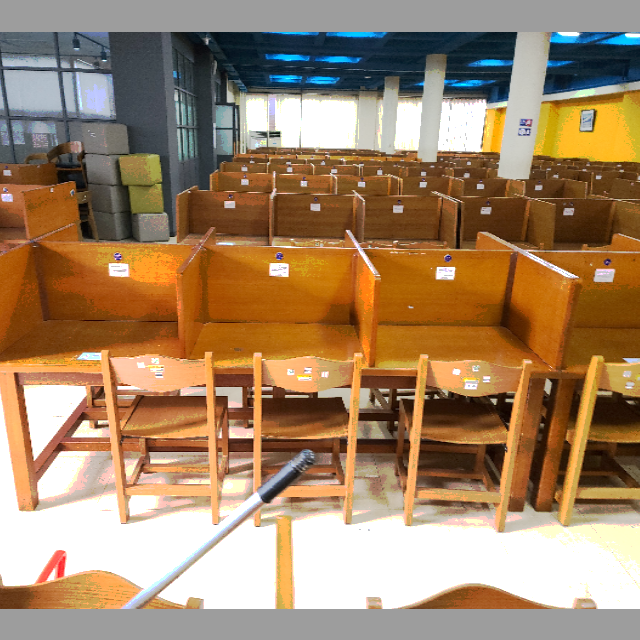empty: (374, 226, 559, 457), (187, 222, 370, 439), (4, 235, 180, 446)
